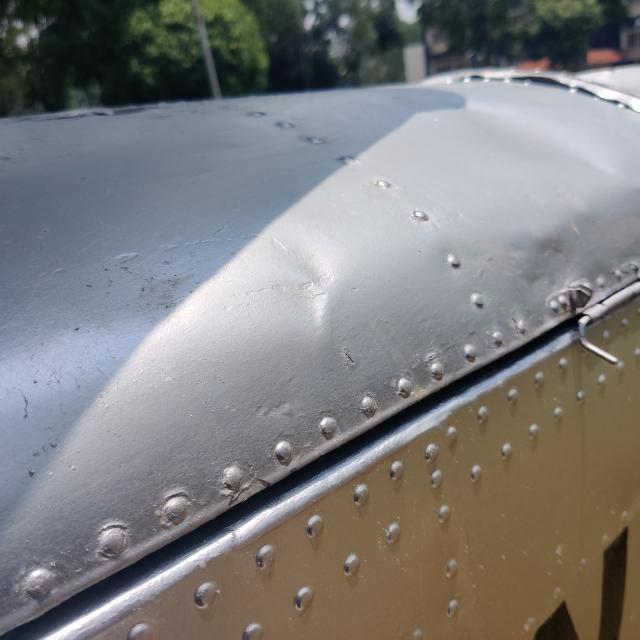dent: (235, 211, 363, 352)
